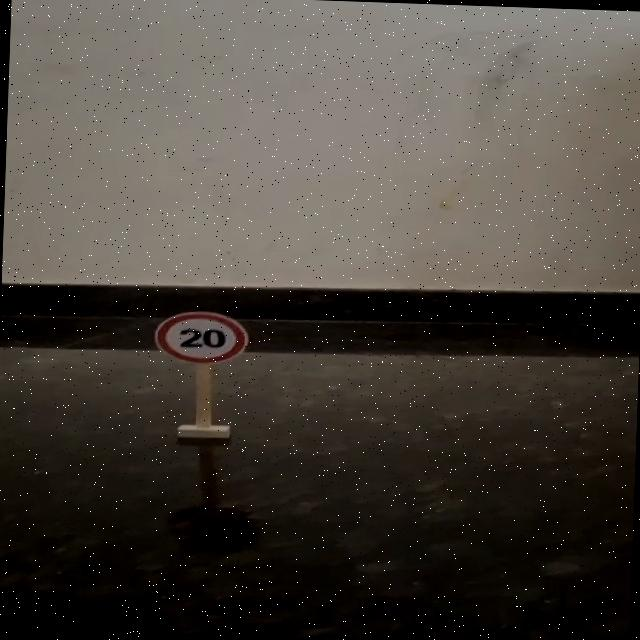Speed20: (140, 304, 260, 371)
